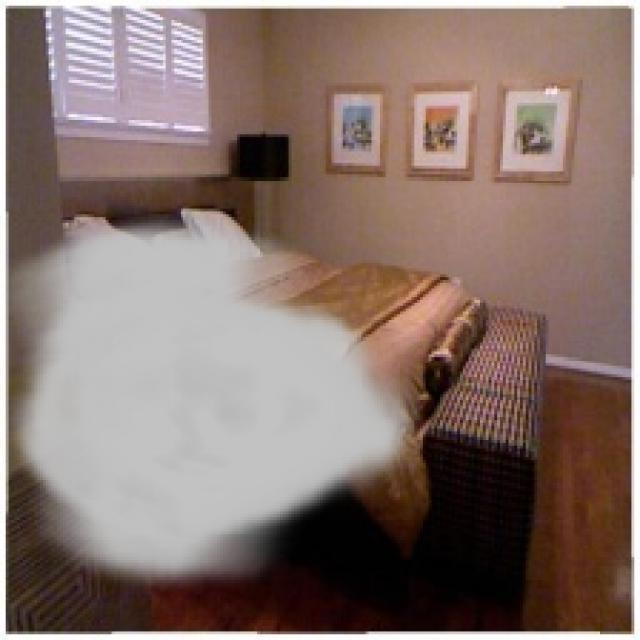Smoke: (6, 214, 423, 597)
